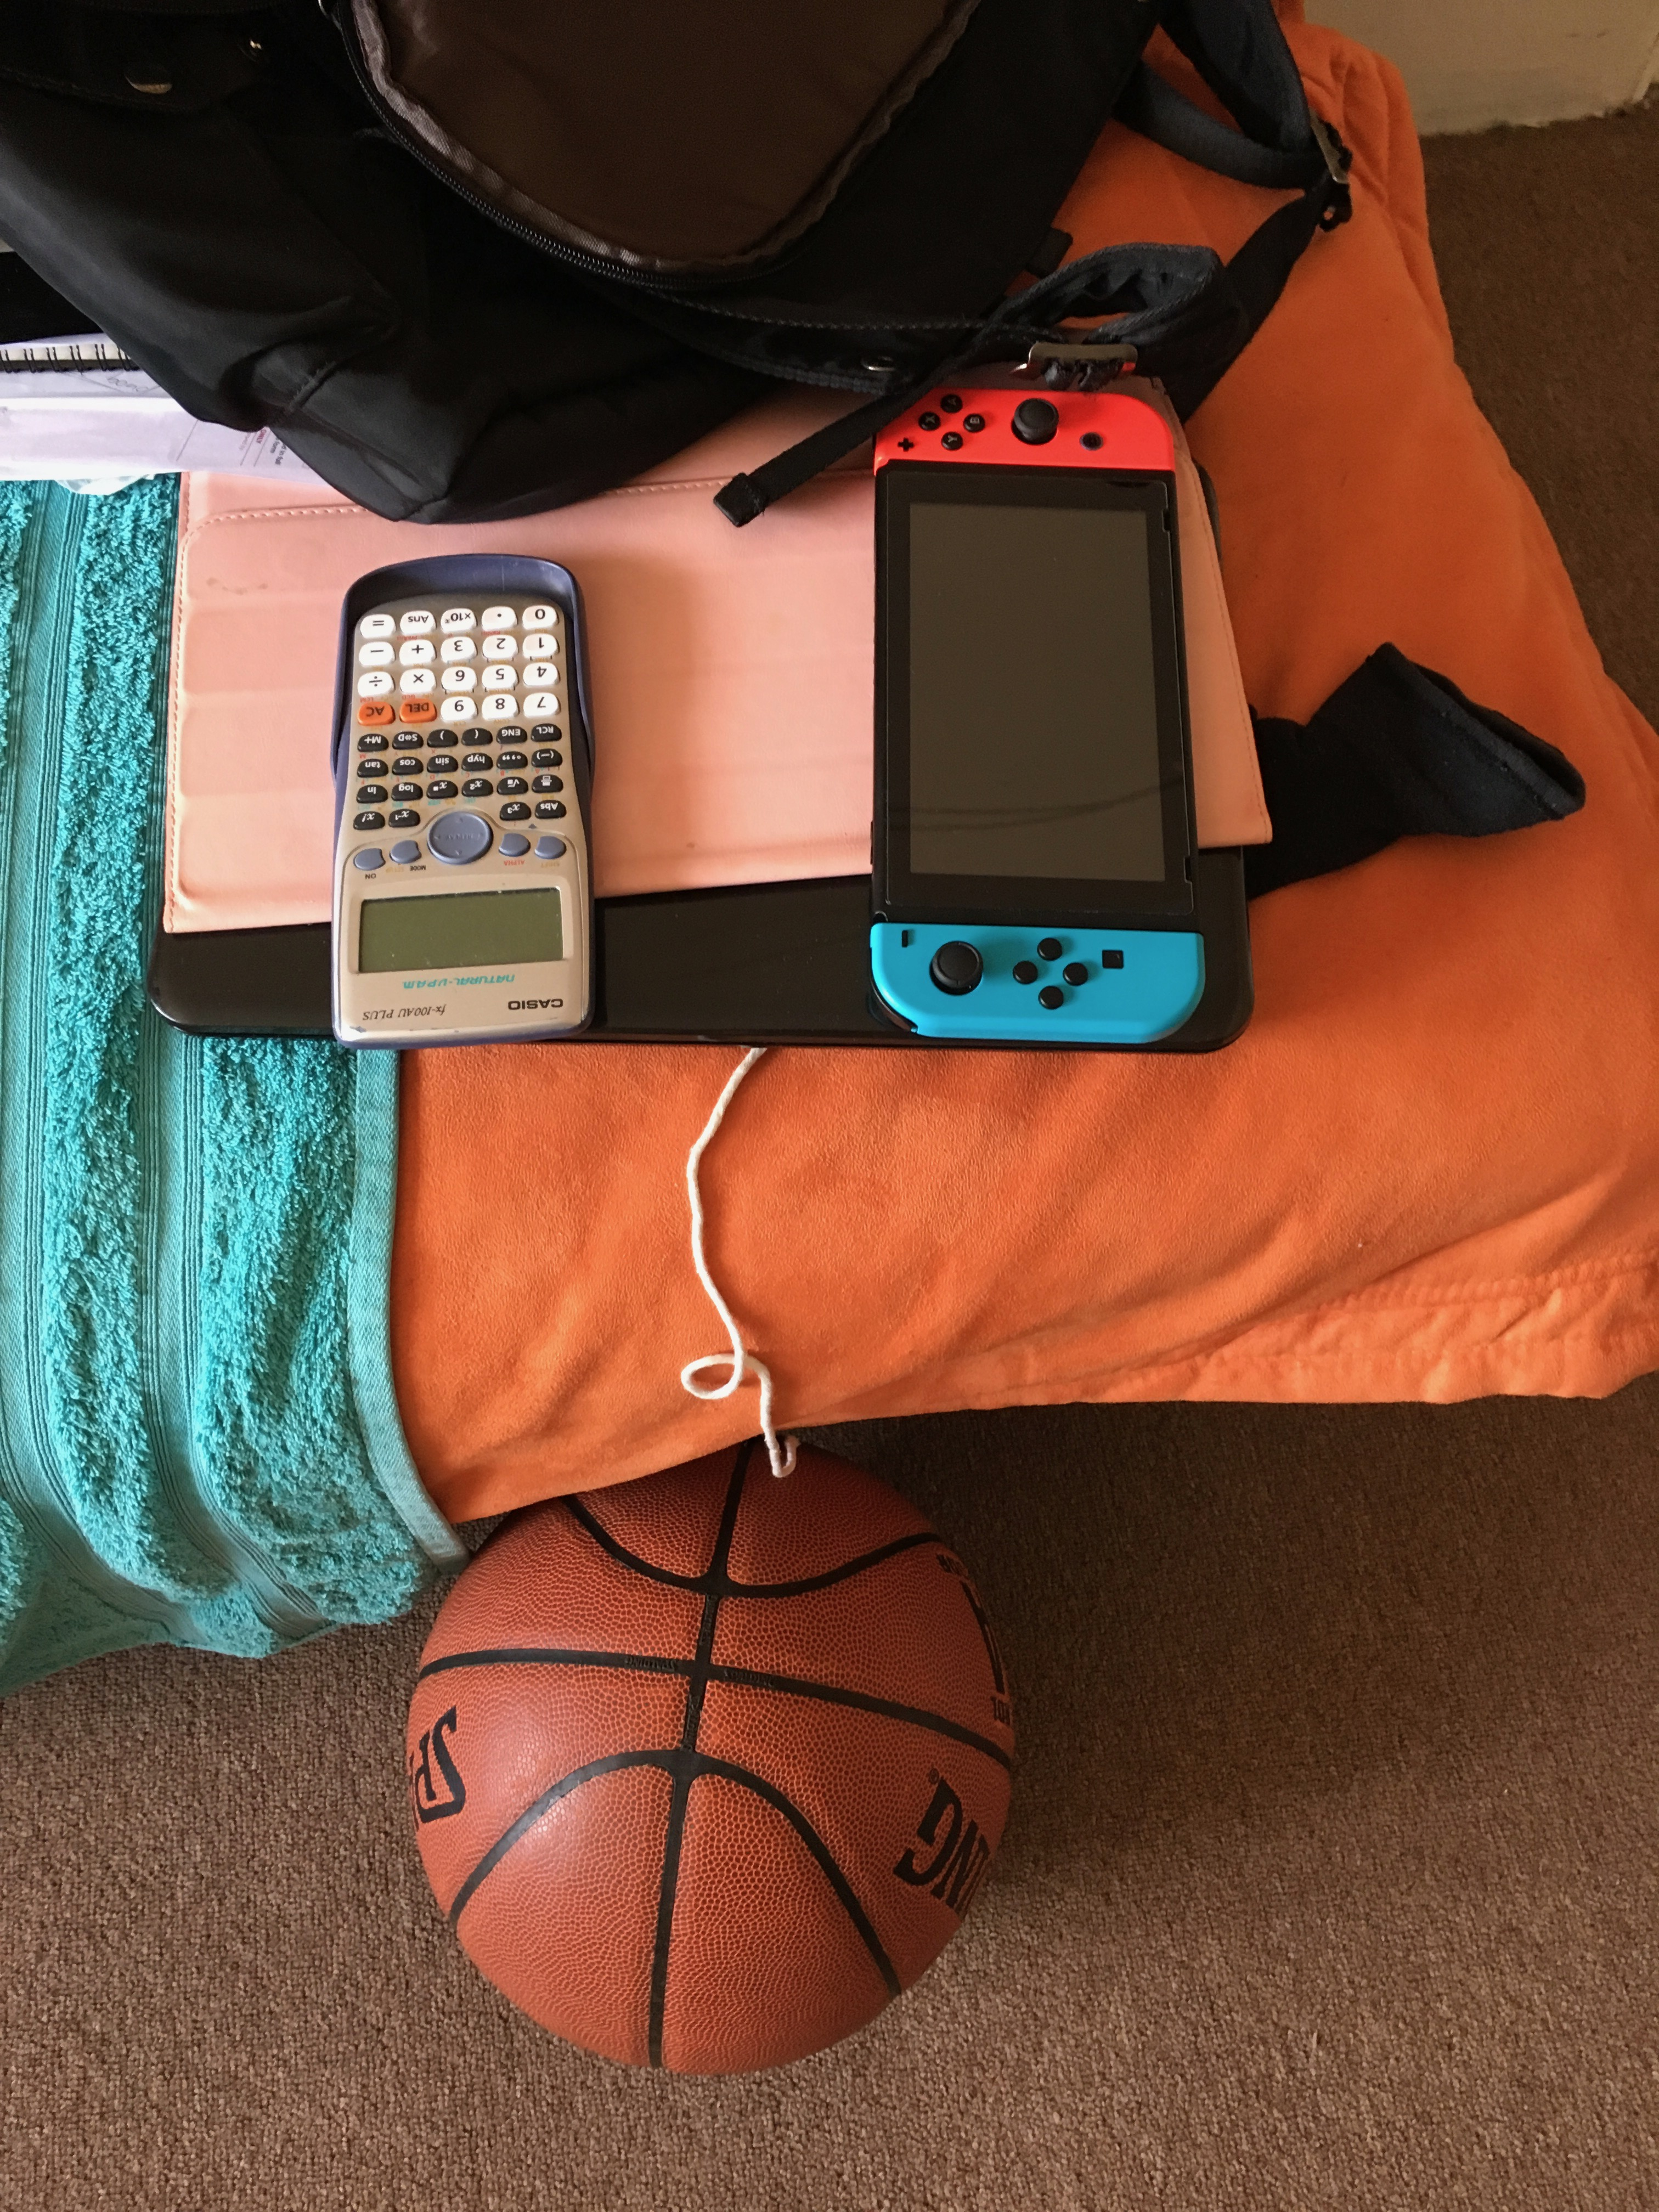Basketball: (387, 1454, 1037, 2088)
Calculator: (315, 547, 617, 1052)
NintendoSwitch: (857, 371, 1216, 1066)
